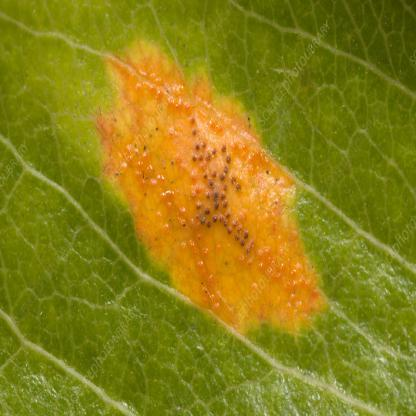Apple rust leaf: (54, 26, 367, 398)
